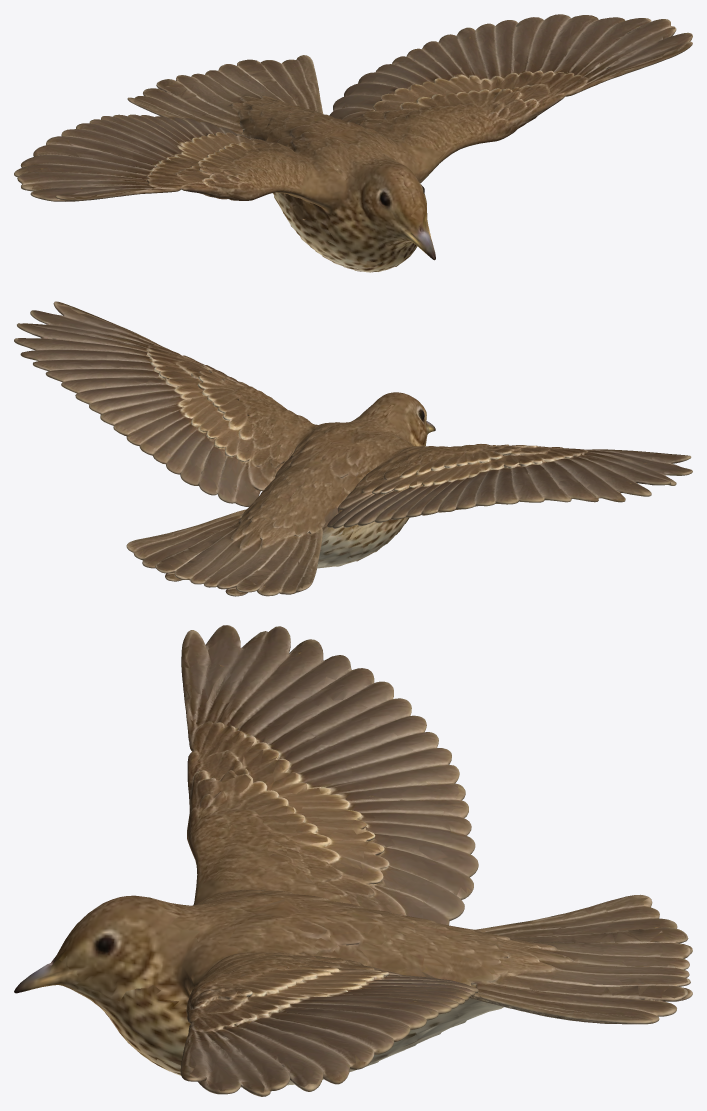
File: Turdus_philomelos.glb
The picture shows the model from 3 angles, top to bottom: view 1: azimuth 30°, elevation 25°; view 2: azimuth 150°, elevation 25°; view 3: azimuth 270°, elevation 25°; orthographic projection. The views are drawn at different scales.
Parts seen in each view (by area): view 1: orient; view 2: orient; view 3: orient.
Part boxes in pixels (x1,y1,x2,y2): orient: (14,14,692,272); orient: (14,301,692,596); orient: (14,625,692,1096).
Bounding box in the file's own units: 0.5001 × 0.1132 × 0.3075.
Materials: 1 (1 with a texture image).
